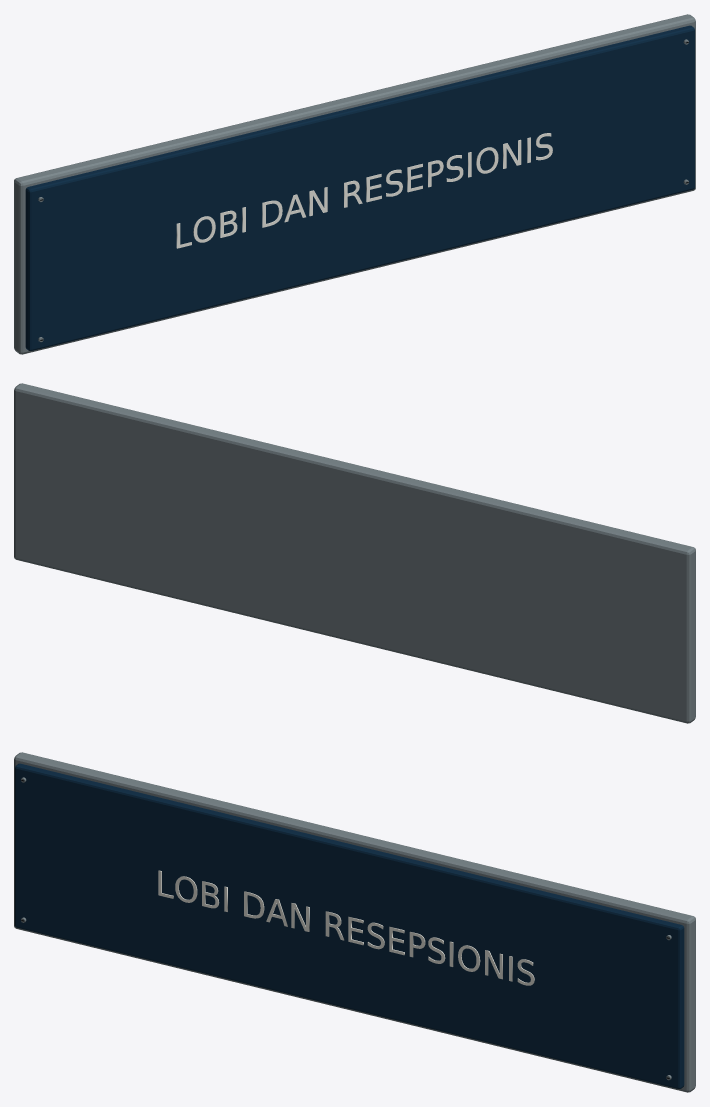
The model's file is OAA_Papan_Ruang_Lobi_dan_Resepsionis.fbx.
The picture shows the model from 3 angles, top to bottom: view 1: azimuth 30°, elevation 25°; view 2: azimuth 150°, elevation 25°; view 3: azimuth 330°, elevation 25°; orthographic projection.
Parts seen in each view (by area): view 1: Body; view 2: Body; view 3: Body.
Boxes of the visible parts, x1=… form: Body: x1=14, y1=14, x2=695, y2=354; Body: x1=14, y1=383, x2=695, y2=723; Body: x1=14, y1=752, x2=695, y2=1092.
Bounding box in the file's own units: 0.9 × 0.22 × 0.0312.
